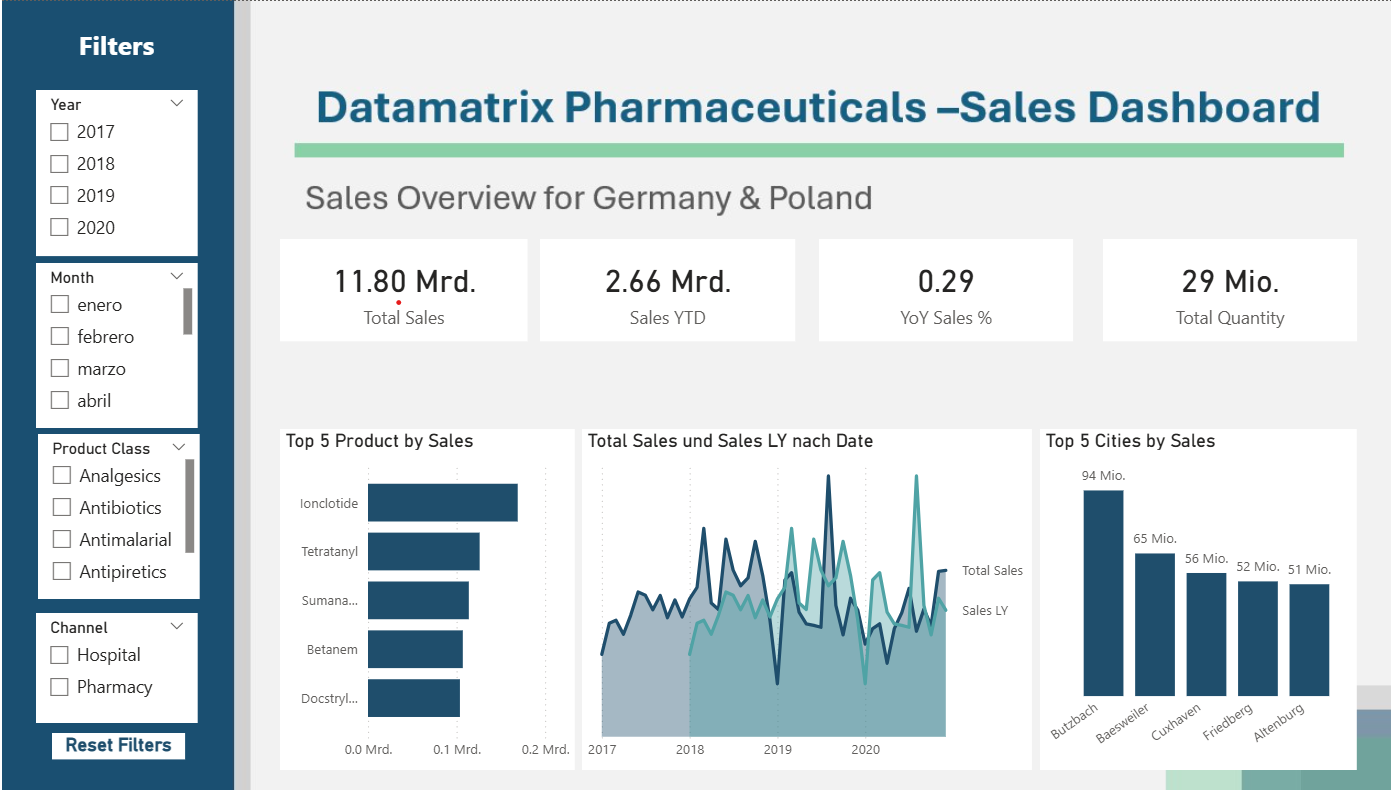

What the dashboard file says about the page in this screenshot:
{"tool":"powerbi","page":{"name":"Executive Summary","canvas":[1280,720],"ordinal":0},"visuals":[{"type":"card","fields":{"Values":["_Measures.Total Sales"]},"box":[267.8,216.1,225.3,93.1],"z":0},{"type":"card","fields":{"Values":["_Measures.YoY Sales %"]},"box":[758.6,216.1,231,93.1],"z":1000},{"type":"card","fields":{"Values":["_Measures.Sales YTD"]},"box":[504.6,216.1,232.2,93.1],"z":2000},{"type":"card","fields":{"Values":["_Measures.Total Quantity"]},"box":[1016.1,216.1,231,93.1],"z":3000},{"type":"slicer","fields":{"Values":["_dim_date.Year"]},"box":[46,80.5,147.1,150.6],"z":4000},{"type":"slicer","fields":{"Values":["_dim_date.Month"]},"box":[46,238,147,150],"z":5000},{"type":"slicer","fields":{"Values":["dim_product.Product Class"]},"box":[48,394,147,150],"z":6000},{"type":"slicer","fields":{"Values":["fact_sales.Channel"]},"box":[46,556,147,100],"z":7000},{"type":"textbox","box":[56.3,18.4,126.4,48.3],"z":8000},{"type":"barChart","title":"Top 5 Product by Sales","fields":{"Category":["dim_product.Product"],"Y":["_Measures.Total Sales"]},"box":[268,389,268,310],"z":9000},{"type":"areaChart","fields":{"Y":["_Measures.Total Sales"],"Y2":["_Measures.Sales LY"],"Category":["_dim_date.Date"]},"box":[543,389,409,310],"z":10000},{"type":"columnChart","title":"Top 5 Cities by Sales","fields":{"Y":["_Measures.Total Sales"],"Category":["fact_sales.City"]},"box":[959,389,288,310],"z":11000},{"type":"actionButton","title":"Reset Filters","box":[61,665,121,25],"z":12000}]}

Visuals, with their boxes in screenshot pixels (x1, y1, x2, y2), scaled from the page's 1280x720 canvas onto the 1391x790 screenshot:
card - _Measures.Total Sales: [x1=291, y1=237, x2=536, y2=339]
card - _Measures.YoY Sales %: [x1=824, y1=237, x2=1075, y2=339]
card - _Measures.Sales YTD: [x1=548, y1=237, x2=801, y2=339]
card - _Measures.Total Quantity: [x1=1104, y1=237, x2=1355, y2=339]
slicer - _dim_date.Year: [x1=50, y1=88, x2=210, y2=254]
slicer - _dim_date.Month: [x1=50, y1=261, x2=210, y2=426]
slicer - dim_product.Product Class: [x1=52, y1=432, x2=212, y2=597]
slicer - fact_sales.Channel: [x1=50, y1=610, x2=210, y2=720]
textbox: [x1=61, y1=20, x2=199, y2=73]
"Top 5 Product by Sales" barChart: [x1=291, y1=427, x2=582, y2=767]
areaChart - _Measures.Total Sales x _Measures.Sales LY: [x1=590, y1=427, x2=1035, y2=767]
"Top 5 Cities by Sales" columnChart: [x1=1042, y1=427, x2=1355, y2=767]
"Reset Filters" actionButton: [x1=66, y1=730, x2=198, y2=757]
